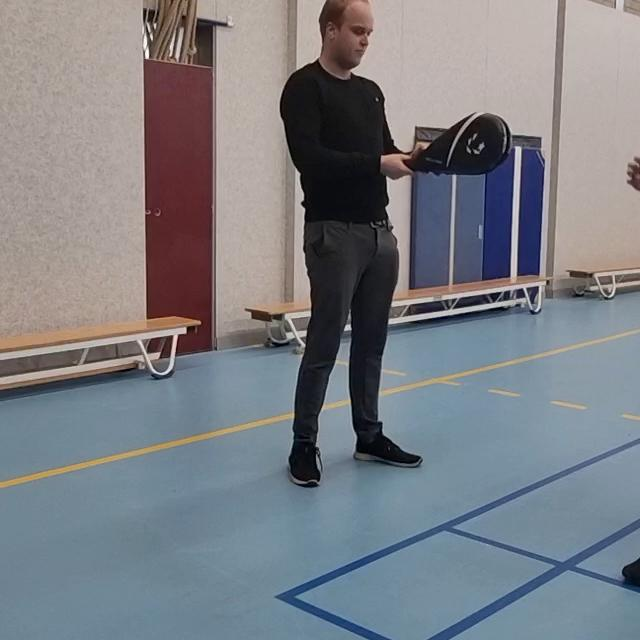paddle: (398, 110, 519, 178)
